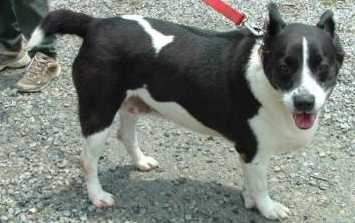dog: (53, 0, 353, 198)
